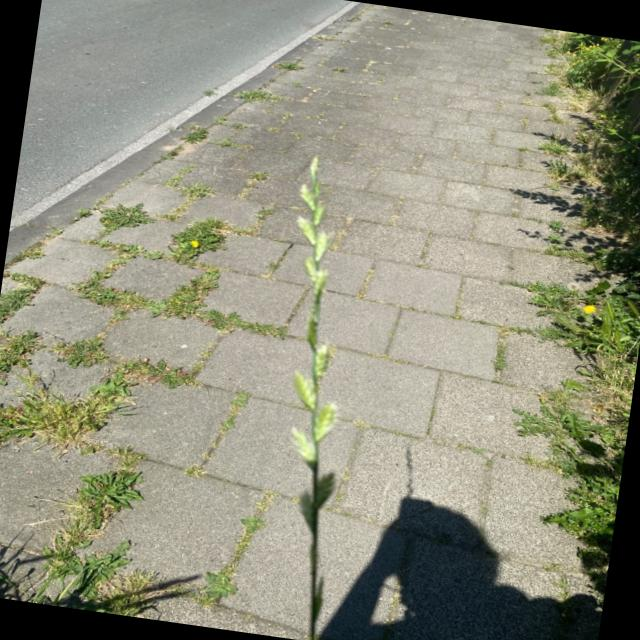Lolium: (230, 151, 389, 640)
